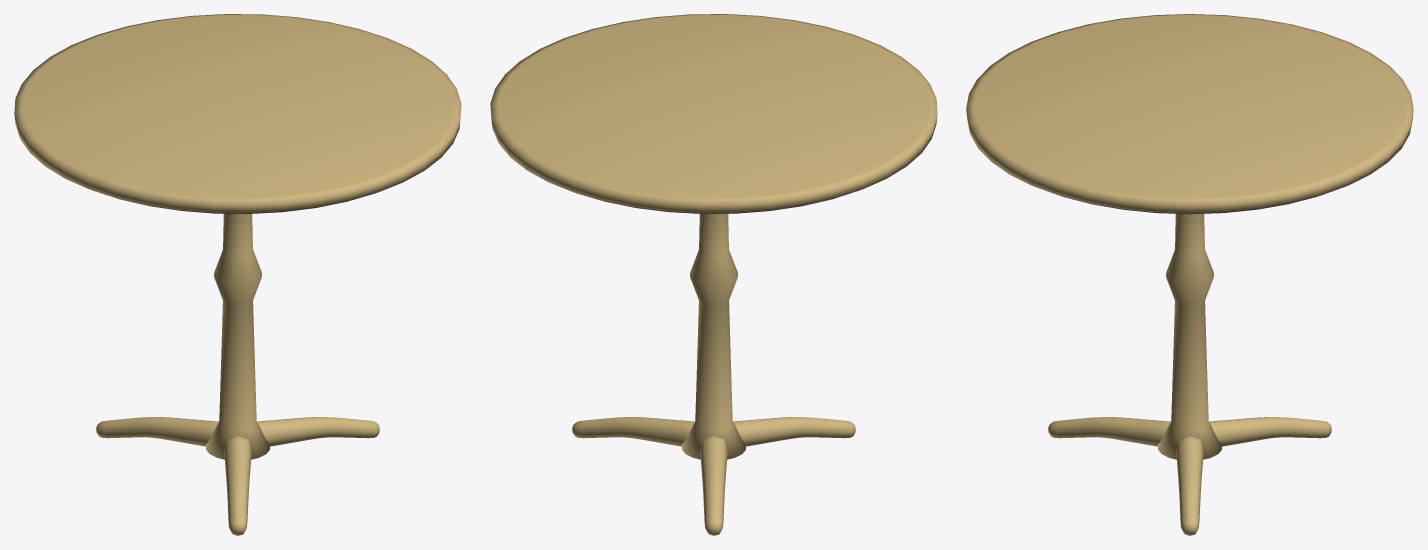
File: bar_table.glb
3 views of the same model, side by side, from view 1: azimuth 30°, elevation 25°; view 2: azimuth 150°, elevation 25°; view 3: azimuth 270°, elevation 25° (orthographic).
Visible parts, largest first — view 1: bar_table; view 2: bar_table; view 3: bar_table.
Part boxes in pixels (<box>): bar_table: <box>14,14,461,535</box>; bar_table: <box>490,14,937,535</box>; bar_table: <box>966,14,1413,535</box>.
Bounding box in the file's own units: 0.824 × 0.7384 × 0.824.
